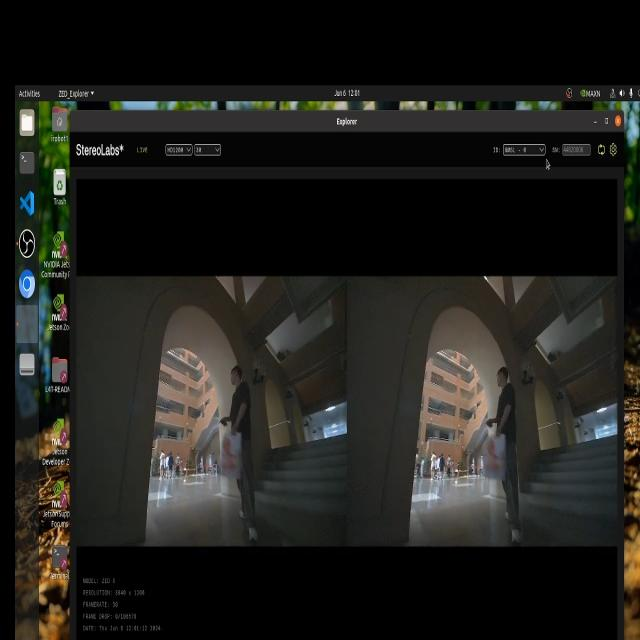red: (218, 425, 240, 477), (484, 430, 504, 476)
